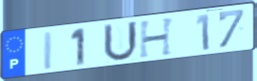1: (69, 26, 87, 67), (195, 12, 212, 52)
7: (217, 8, 246, 51)
H: (138, 16, 177, 60)
I: (41, 30, 55, 72)
U: (102, 20, 140, 64)
